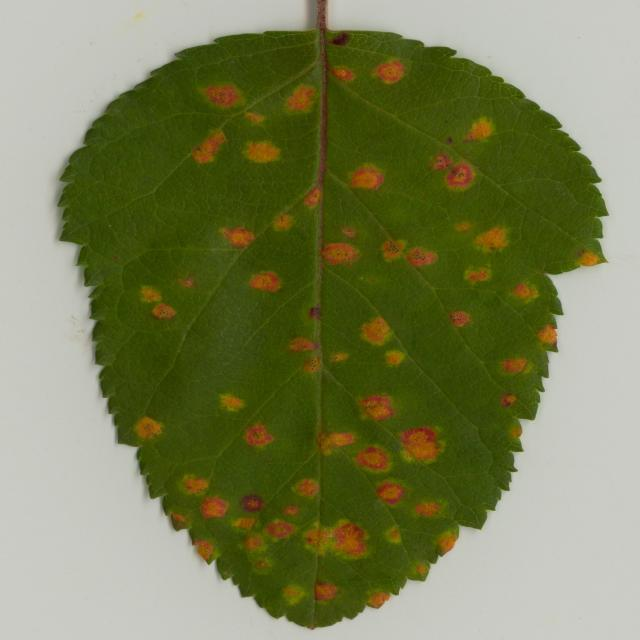Gymnosporangium_Rusts: (55, 10, 610, 630)
